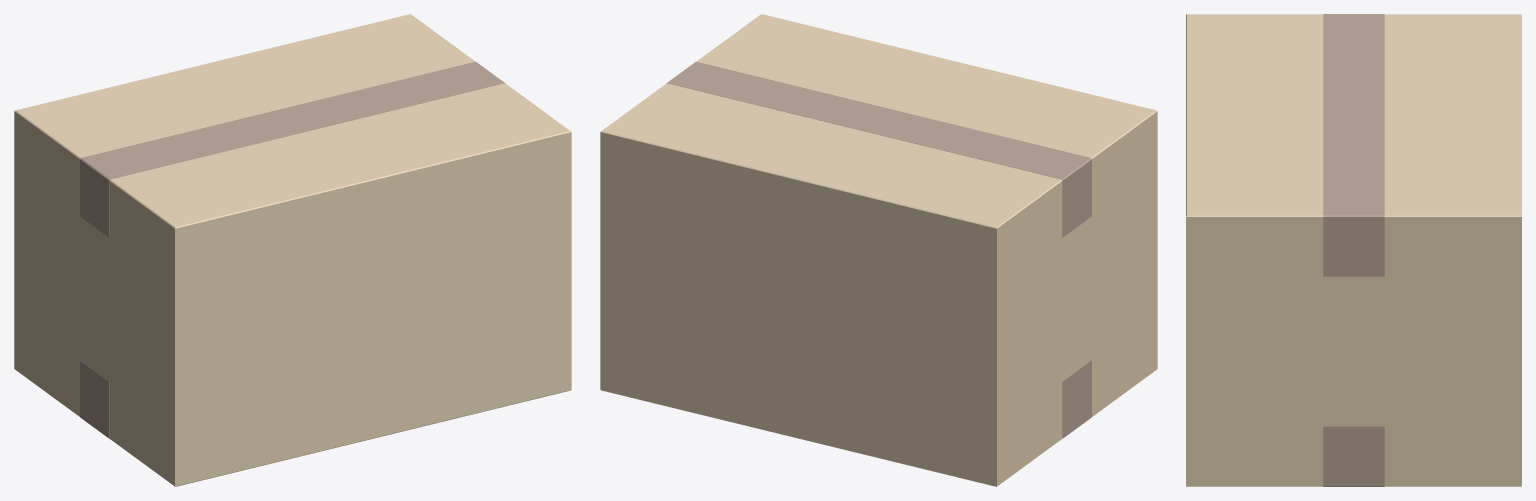
Rendered from 067_ダンボール中閉.glb.
The picture shows the model from 3 angles, left to right: view 1: azimuth 30°, elevation 25°; view 2: azimuth 150°, elevation 25°; view 3: azimuth 270°, elevation 25°; orthographic projection. The views are drawn at different scales.
Visible parts, largest first — view 1: Body; view 2: Body; view 3: Body.
Part boxes in pixels (x1=…): Body: x1=14, y1=14, x2=571, y2=486; Body: x1=600, y1=14, x2=1157, y2=486; Body: x1=1186, y1=14, x2=1521, y2=486.
Bounding box in the file's own units: 0.4704 × 0.2944 × 0.33.
